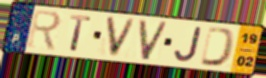D: (198, 25, 238, 68)
J: (172, 25, 204, 63)
R: (25, 8, 63, 53)
T: (68, 13, 93, 53)
V: (104, 15, 138, 60), (138, 19, 170, 62)
